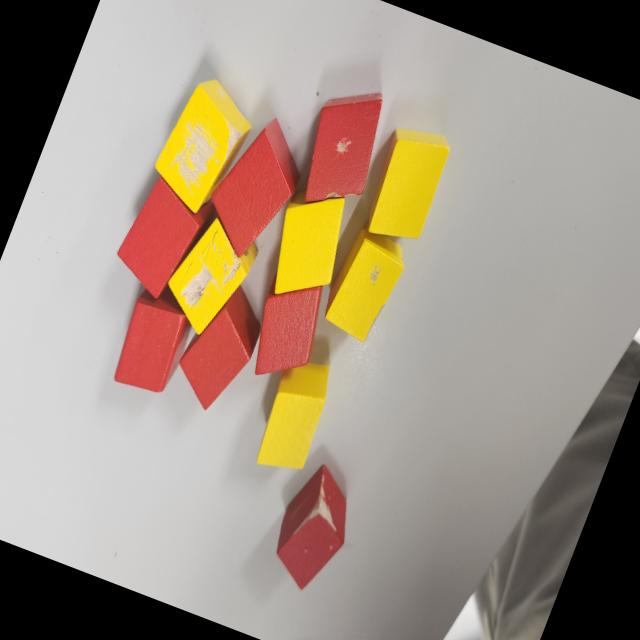broken: (142, 70, 264, 223), (286, 74, 400, 224), (258, 457, 368, 601), (152, 210, 262, 344), (320, 227, 411, 347)
red: (194, 107, 318, 269), (104, 172, 220, 310), (166, 274, 274, 420), (238, 268, 337, 392), (105, 276, 202, 400)
yellow: (255, 180, 362, 314), (358, 119, 458, 251), (248, 352, 342, 481)
